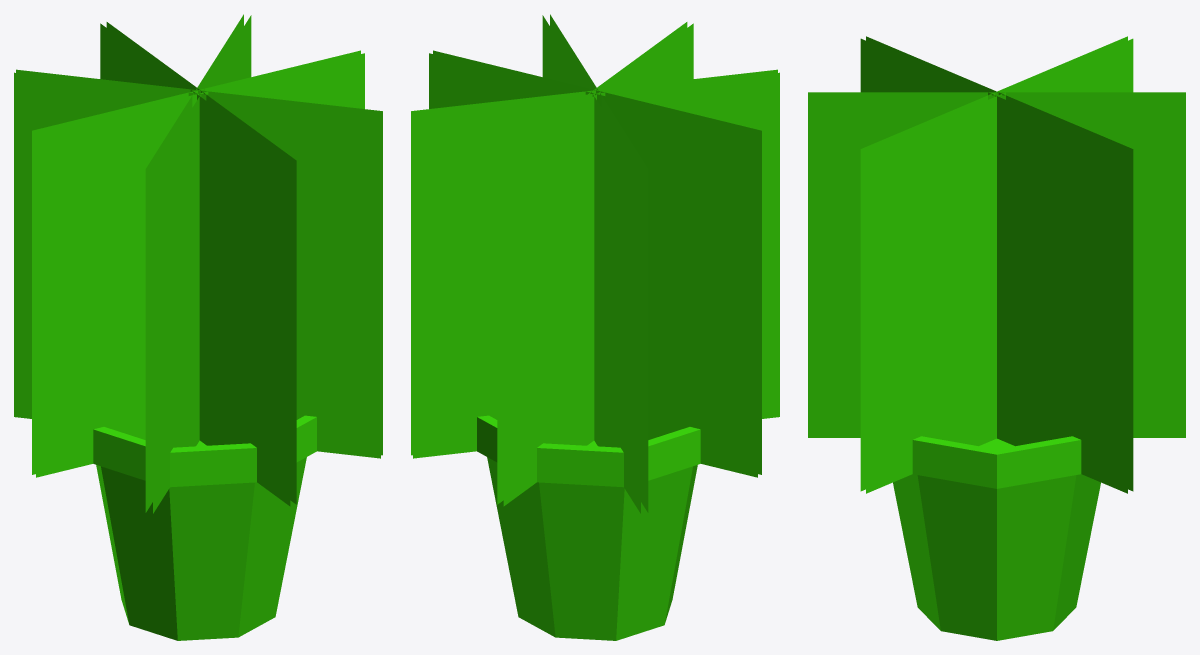
Rendered from vase2.fbx.
3 views of the same model, side by side, from view 1: azimuth 30°, elevation 25°; view 2: azimuth 150°, elevation 25°; view 3: azimuth 270°, elevation 25° (orthographic).
Visible parts, largest first — view 1: vase2; view 2: vase2; view 3: vase2.
Boxes of the visible parts, box(x1,y1,x2,y2) form: vase2: box(14, 14, 382, 640); vase2: box(411, 14, 779, 640); vase2: box(808, 36, 1185, 640).
Bounding box in the file's own units: 100 × 150 × 100.
